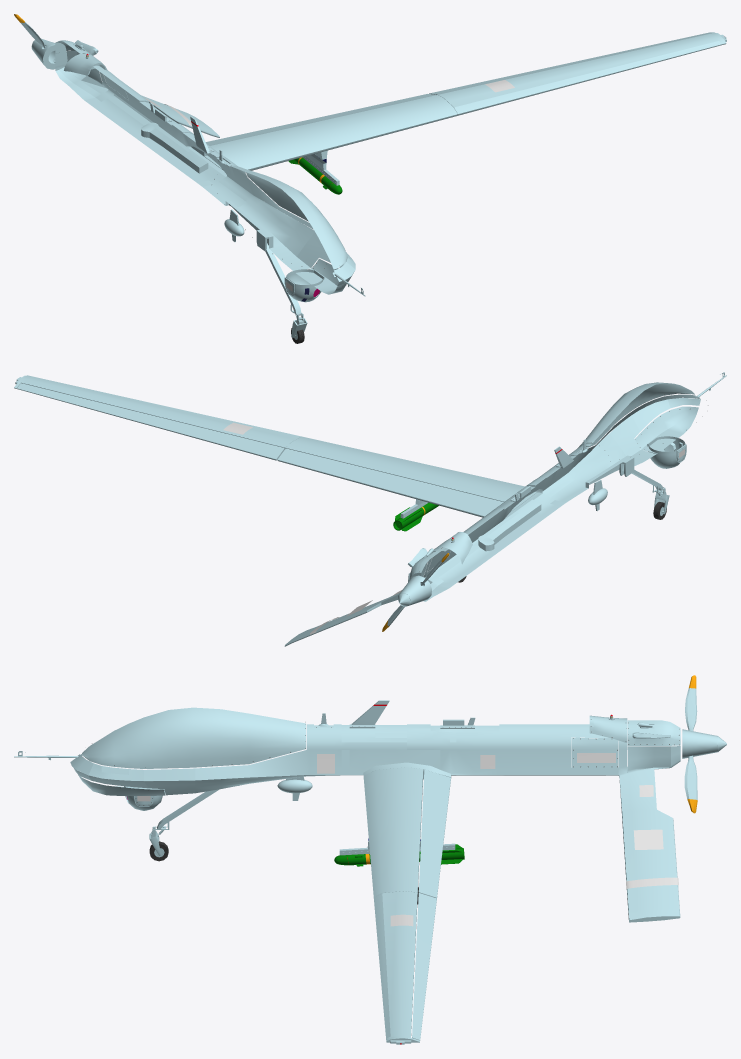
File: mq-1b-predator.dae
3 views of the same model, one above another, from view 1: azimuth 30°, elevation 25°; view 2: azimuth 150°, elevation 25°; view 3: azimuth 270°, elevation 25° (orthographic). The views are drawn at different scales.
Visible parts, largest first — view 1: B1, Flaps.1, Wheel.front, Engines, Missiles.pylons, Eyeball.camera, Propelers, Antenas; view 2: B1, Flaps.1, Propelers, Engines, Wheel.front, Eyeball.camera, Missiles.pylons, Antenas; view 3: B1, Flaps.1, Engines, Propelers, Missiles.pylons, Antenas, Wheel.front.
Part boxes in pixels (x1,y1,x2,y2): B1: (55, 32, 726, 294); Flaps.1: (205, 33, 710, 145); Wheel.front: (256, 229, 307, 343); Engines: (55, 40, 107, 75); Missiles.pylons: (288, 150, 342, 194); Eyeball.camera: (284, 269, 324, 302); Propelers: (14, 14, 60, 69); Antenas: (85, 54, 365, 296); B1: (14, 375, 708, 646); Flaps.1: (17, 383, 503, 517); Propelers: (382, 553, 449, 631); Engines: (408, 532, 472, 579); Wheel.front: (619, 456, 669, 519); Eyeball.camera: (647, 436, 686, 468); Missiles.pylons: (393, 499, 438, 531); Antenas: (451, 372, 726, 542); B1: (70, 707, 680, 1044); Flaps.1: (412, 769, 450, 1040); Engines: (589, 715, 680, 745); Propelers: (682, 675, 726, 813); Missiles.pylons: (334, 838, 464, 866); Antenas: (14, 700, 614, 760); Wheel.front: (149, 785, 238, 861).
Size of the model in its own units: 7.13 by 7.13 by 1.84.
